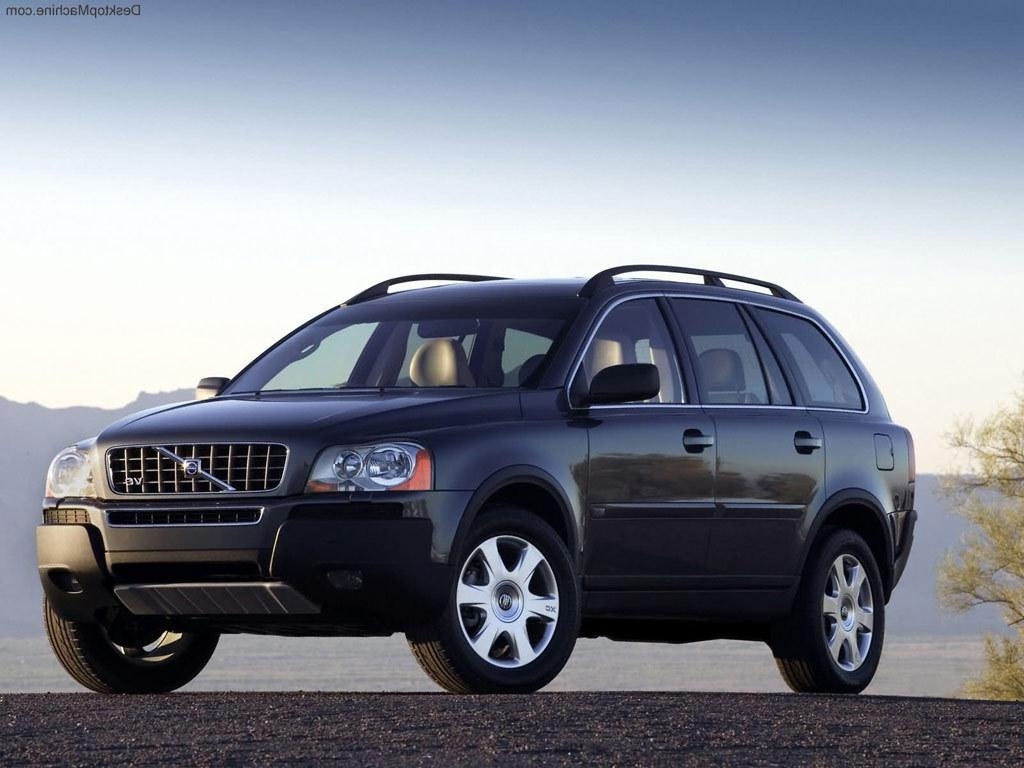car: (13, 205, 981, 741)
